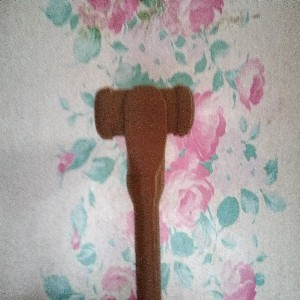palu: (94, 83, 195, 300)
